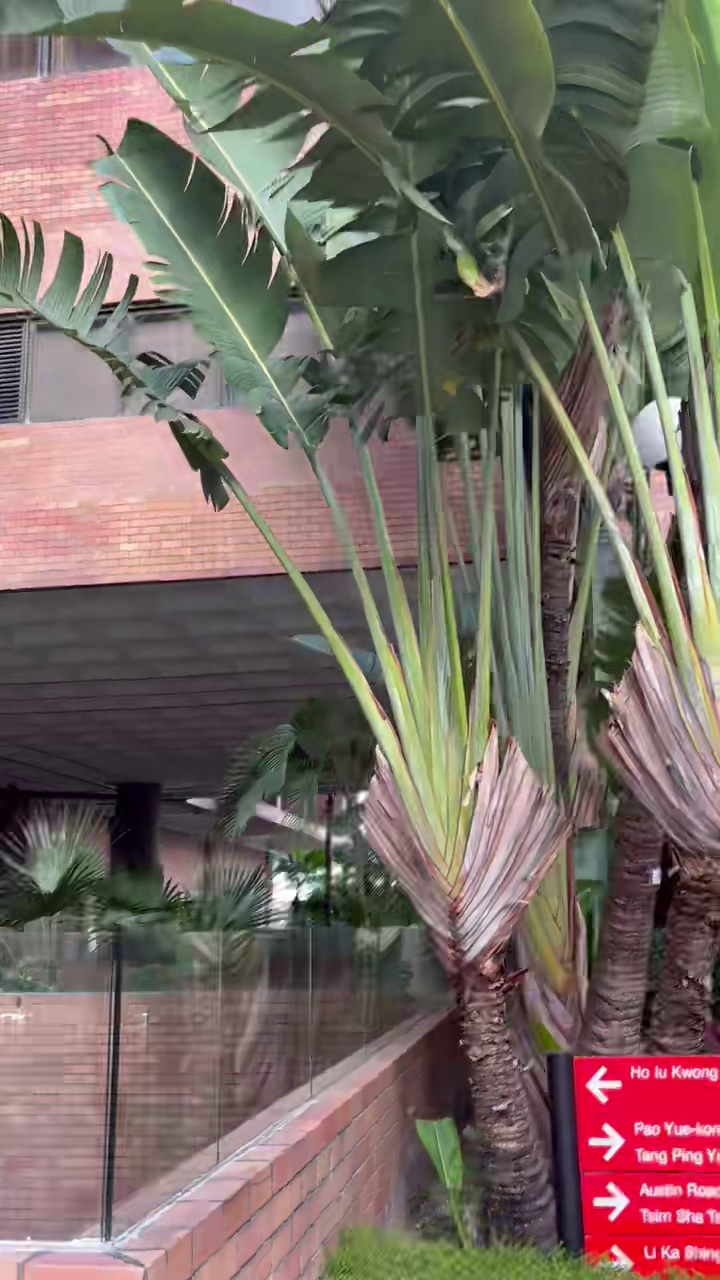Travellers-tree: (47, 0, 719, 1242)
